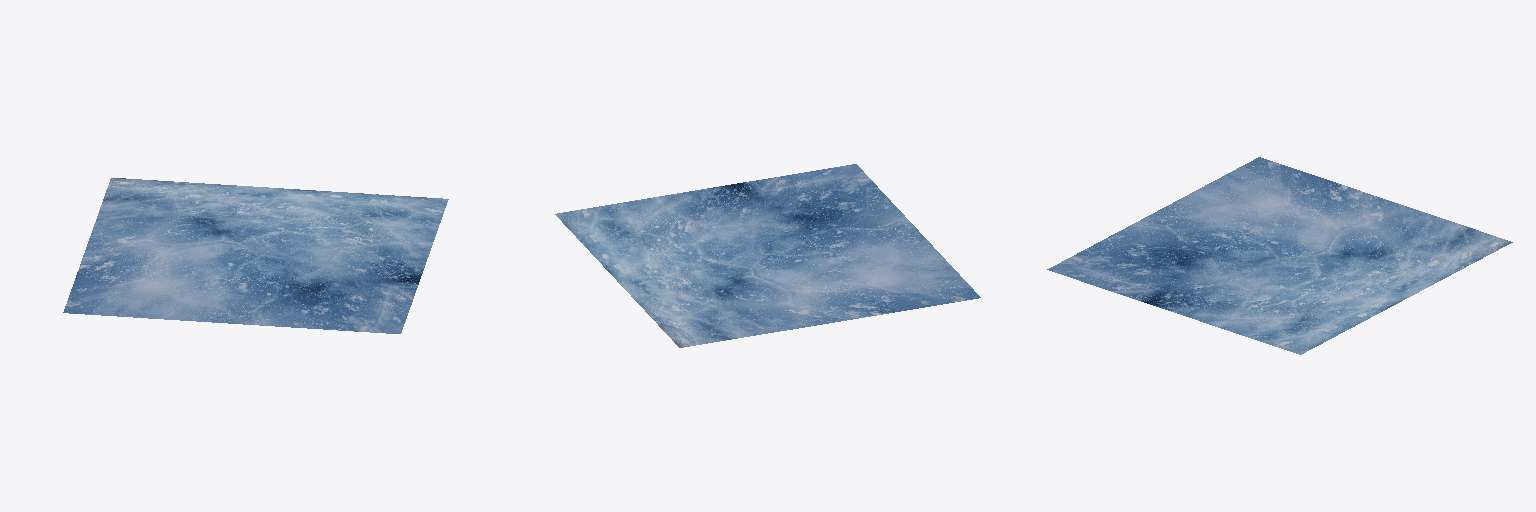
3 views of the same model, side by side, from view 1: azimuth 30°, elevation 25°; view 2: azimuth 150°, elevation 25°; view 3: azimuth 270°, elevation 25° (orthographic).
Visible parts, largest first — view 1: Plane.001_Plane.002; view 2: Plane.001_Plane.002; view 3: Plane.001_Plane.002.
Part boxes in pixels (bbox=[...]): Plane.001_Plane.002: bbox=[63, 178, 448, 333]; Plane.001_Plane.002: bbox=[555, 164, 980, 347]; Plane.001_Plane.002: bbox=[1047, 157, 1512, 354].
Size of the model in its own units: 124 by 0 by 123.
Materials: 1 (1 with a texture image).